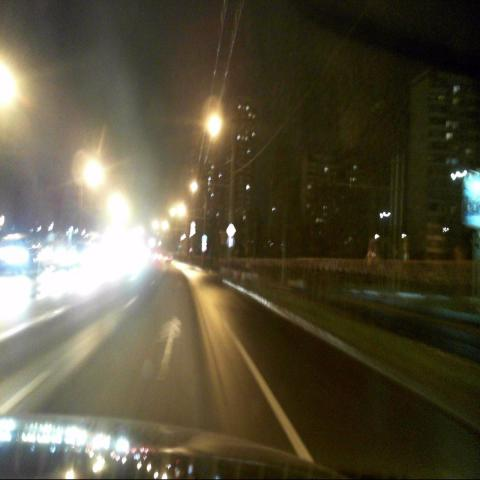2_1: (226, 222, 236, 237)
4_1_1: (227, 237, 234, 247)
